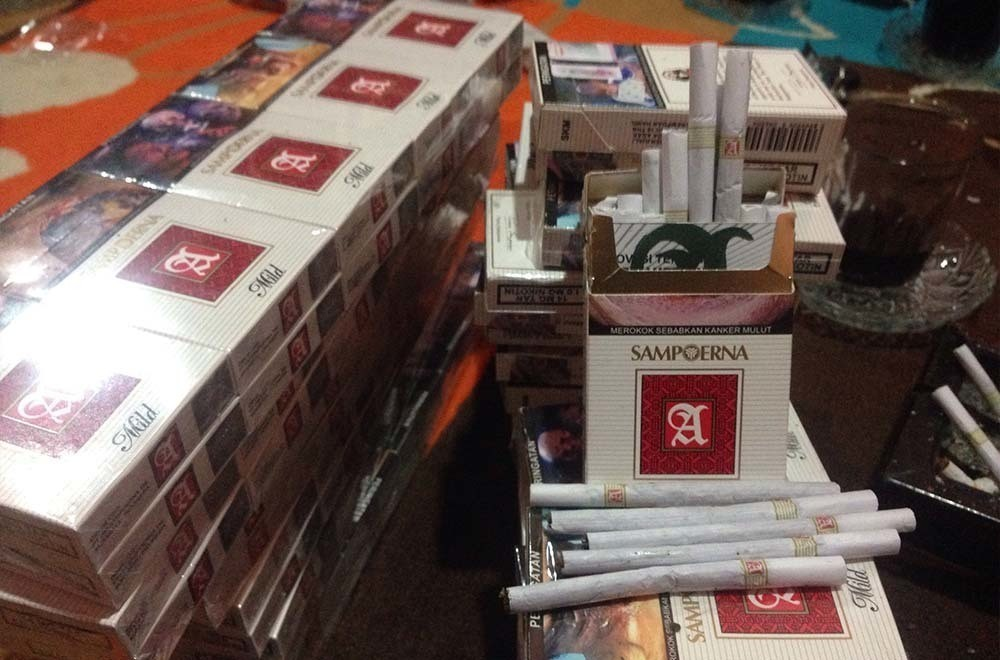A Mild: (1, 306, 166, 497), (591, 337, 783, 480), (113, 210, 306, 298), (186, 109, 383, 193)
